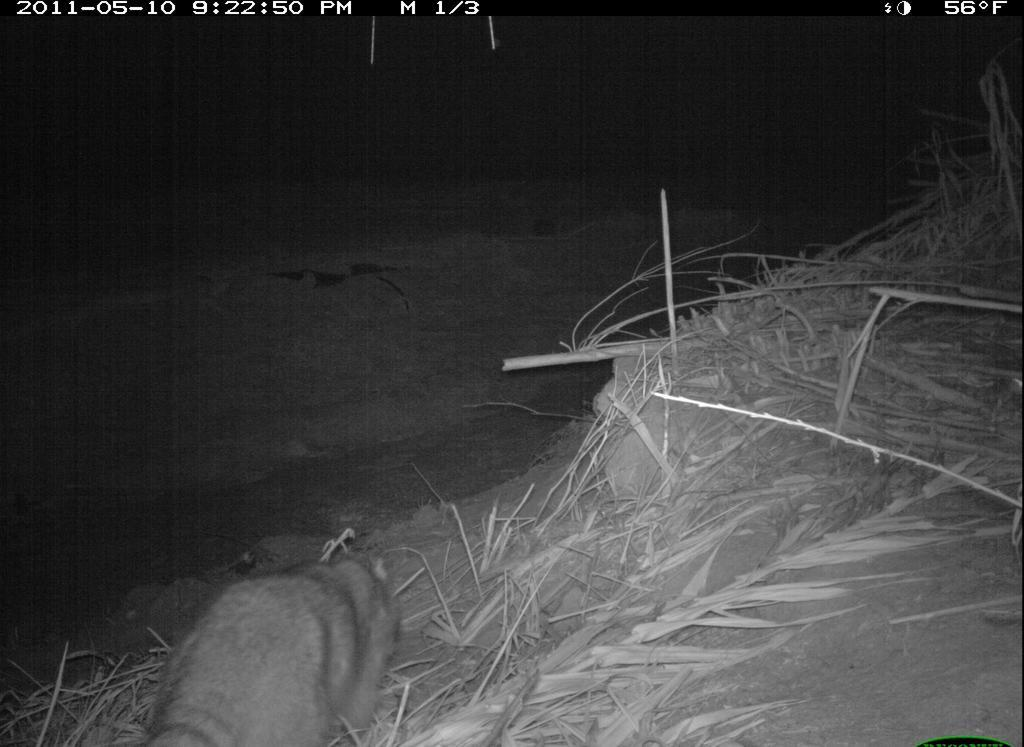raccoon: (140, 546, 417, 747)
